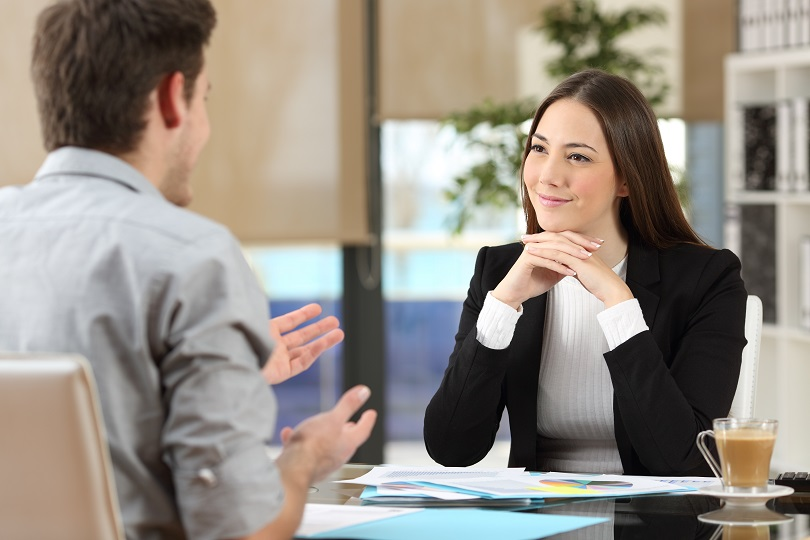person: (476, 78, 727, 314), (22, 19, 239, 271)
